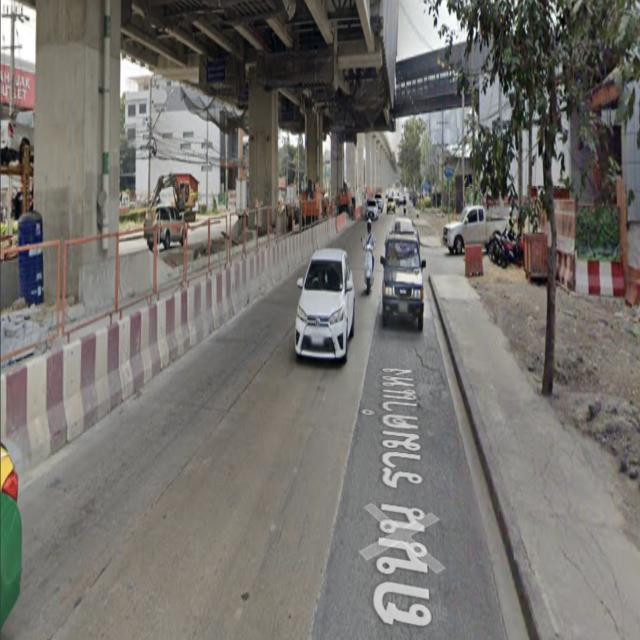fallen_object: (519, 227, 640, 323), (0, 337, 89, 450), (60, 315, 149, 417), (129, 255, 197, 373), (179, 262, 251, 329), (436, 232, 484, 283), (243, 239, 283, 292), (266, 219, 307, 269), (312, 207, 344, 251)
